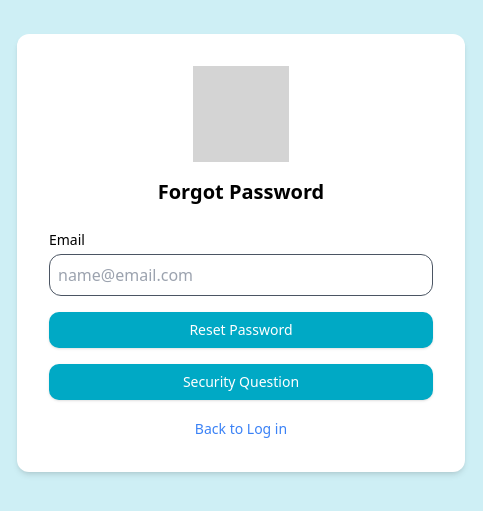
Test case: ForgotPassword Component › handles email input and reset request
In the field with placeholder "name@email.com": point(241, 275) x1=49 y1=254 x2=433 y2=296, type "test@example.com"
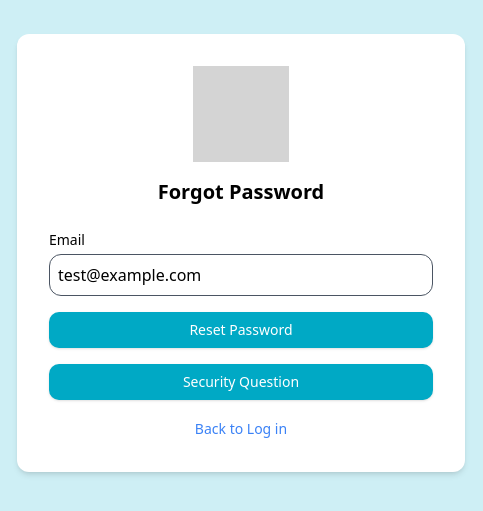
Click the button "Reset Password": point(241, 330) x1=49 y1=312 x2=433 y2=348
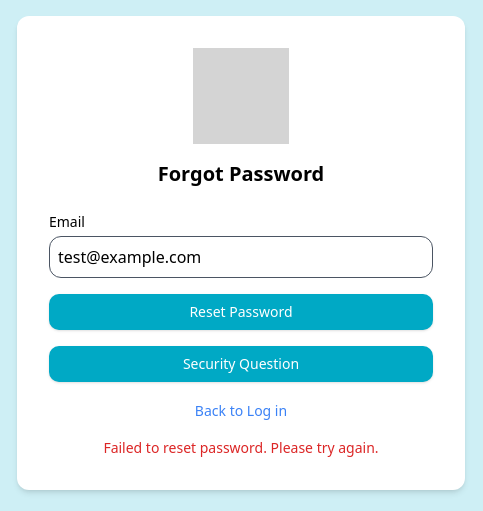
Now the text "Failed to reset password. Please try again." is shown, box x1=103 y1=438 x2=379 y2=457
